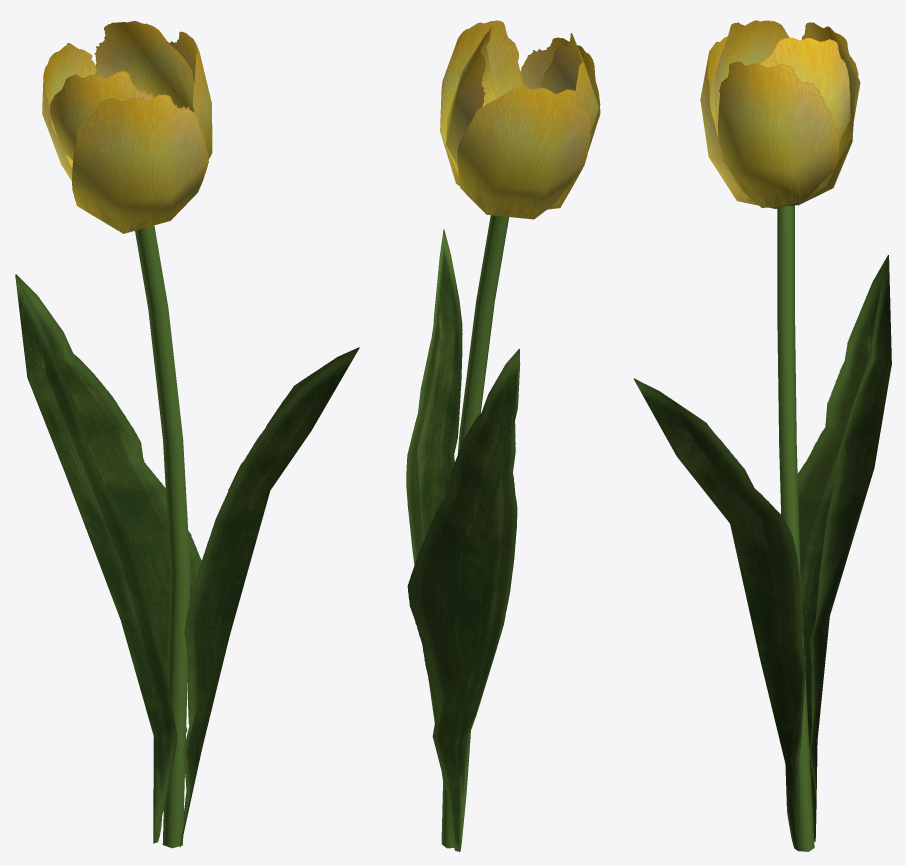
Rendered from tulip.fbx.
The picture shows the model from 3 angles, left to right: view 1: azimuth 30°, elevation 25°; view 2: azimuth 150°, elevation 25°; view 3: azimuth 270°, elevation 25°; orthographic projection. The views are drawn at different scales.
Parts seen in each view (by area): view 1: tulip_alutaroma_02; view 2: tulip_alutaroma_02; view 3: tulip_alutaroma_02.
Boxes of the visible parts, bbox=[...] form: tulip_alutaroma_02: bbox=[15, 21, 359, 848]; tulip_alutaroma_02: bbox=[406, 20, 600, 851]; tulip_alutaroma_02: bbox=[633, 20, 891, 851].
Bounding box in the file's own units: 8.96 × 9.1 × 30.73.
